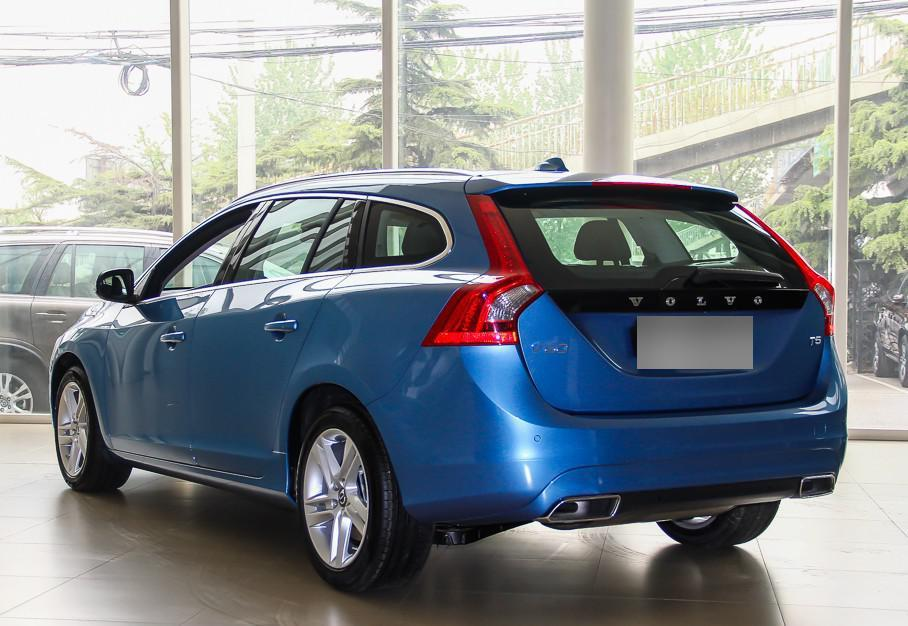Wagon: (47, 159, 849, 597)
